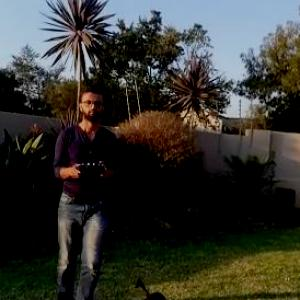follow: (45, 87, 123, 299)
